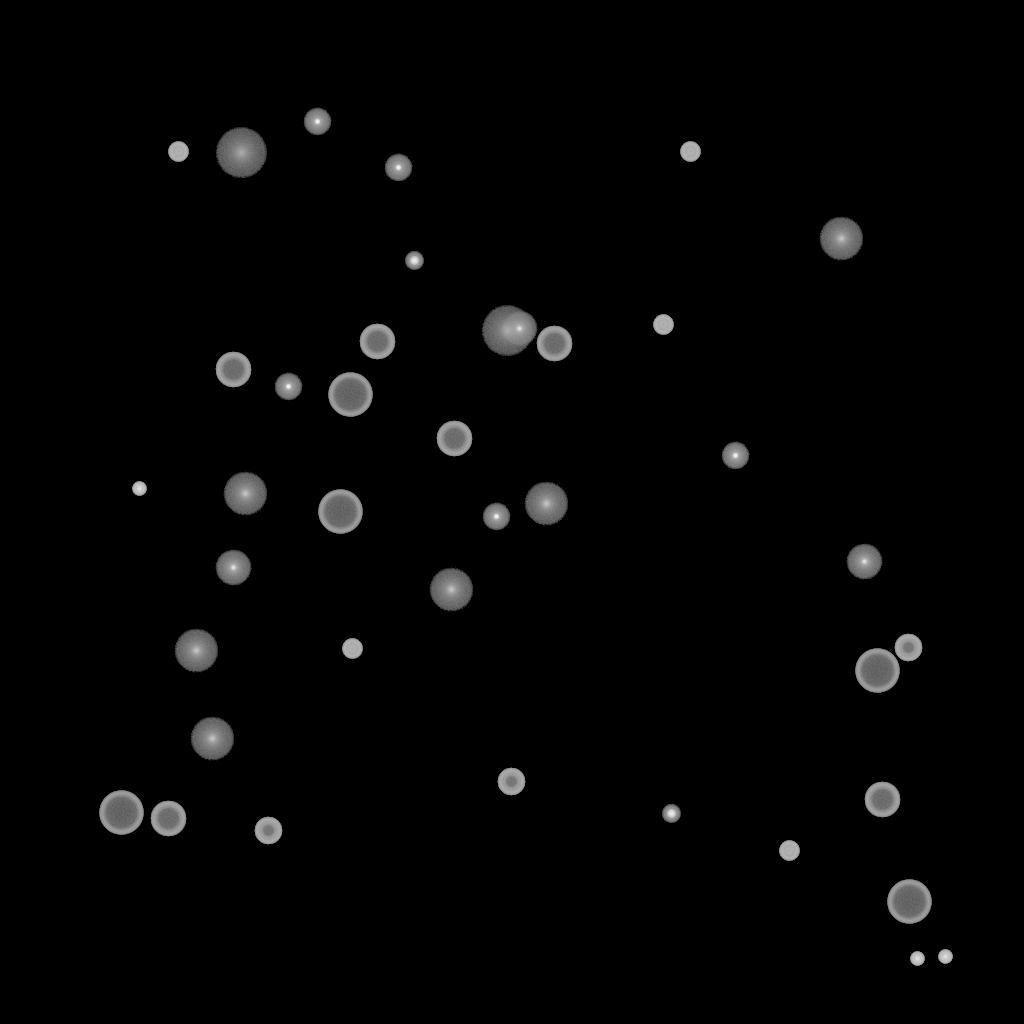depth:-10: (274, 373, 302, 401), (482, 503, 510, 531), (384, 154, 412, 182), (303, 108, 331, 136), (721, 442, 749, 470)
depth:-20: (662, 805, 680, 823), (405, 252, 423, 270)
depth:-30: (910, 952, 924, 966), (132, 482, 146, 496), (938, 950, 952, 964)
depth:-40: (168, 142, 188, 162), (779, 841, 799, 861), (342, 639, 362, 659), (653, 315, 673, 335), (680, 142, 700, 162)
depth:-50: (497, 768, 525, 796), (254, 817, 282, 845), (894, 634, 922, 662)
depth:-60: (536, 326, 572, 362), (150, 801, 186, 837), (436, 421, 472, 457), (864, 782, 900, 818), (359, 324, 395, 360), (215, 352, 251, 388)
depth:-70: (887, 880, 931, 924), (318, 490, 362, 534), (99, 791, 143, 835), (855, 649, 899, 693), (328, 373, 372, 417)
depth:0: (215, 550, 251, 586), (846, 544, 882, 580), (501, 311, 537, 347)
depth:10: (429, 568, 473, 612), (223, 472, 267, 516), (190, 717, 234, 761), (819, 217, 863, 261), (524, 482, 568, 526), (174, 629, 218, 673)
depth:20: (215, 128, 267, 178), (481, 306, 533, 356)
